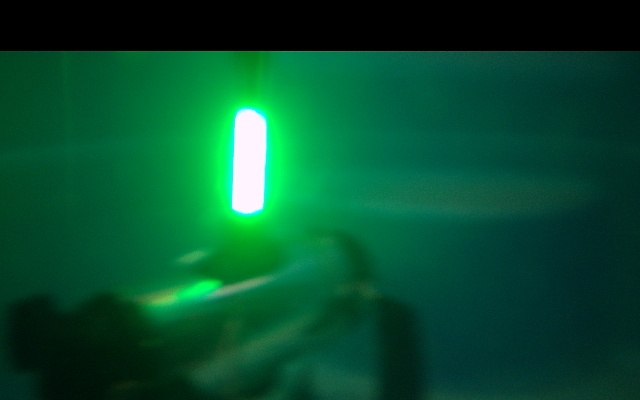green: (230, 104, 266, 227)
